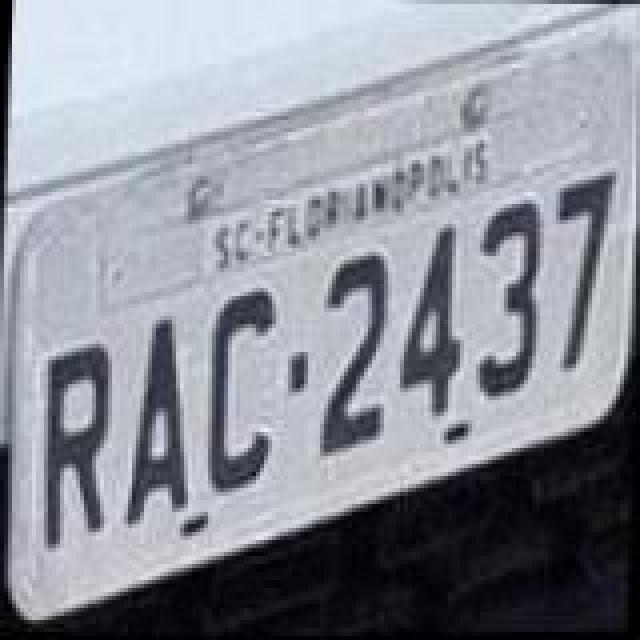2: (310, 240, 394, 460)
3: (472, 192, 548, 400)
4: (394, 218, 466, 418)
7: (546, 172, 622, 380)
A: (124, 304, 200, 528)
C: (204, 278, 284, 498)
R: (34, 336, 114, 560)
